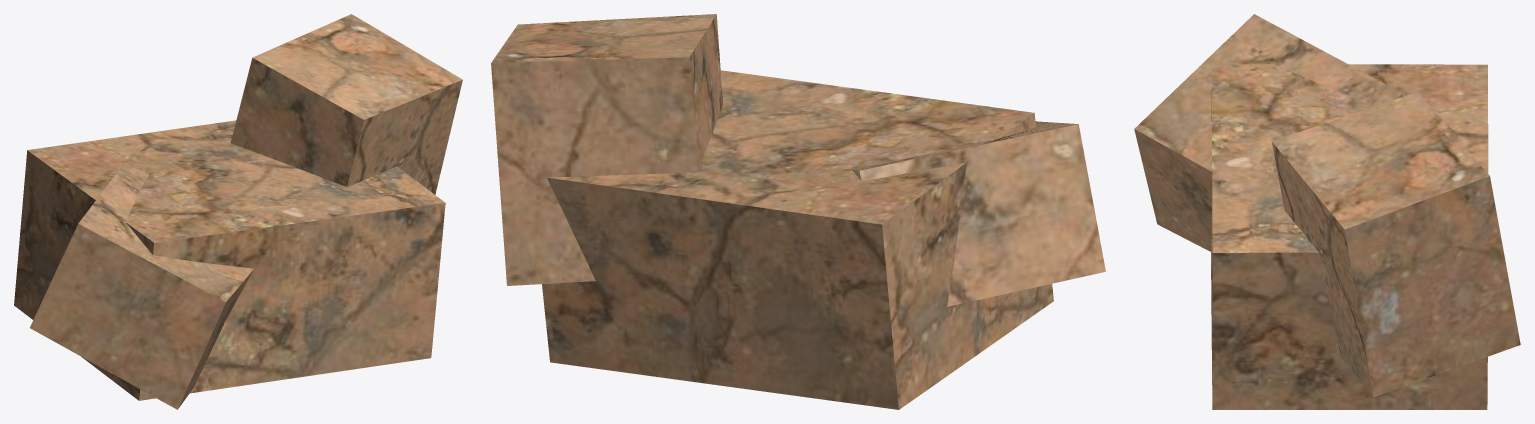
The model's file is rubble.glb.
The picture shows the model from 3 angles, left to right: view 1: azimuth 30°, elevation 25°; view 2: azimuth 150°, elevation 25°; view 3: azimuth 270°, elevation 25°; orthographic projection. The views are drawn at different scales.
Parts seen in each view (by area): view 1: rubble; view 2: rubble; view 3: rubble.
Boxes of the visible parts, <box> form: rubble: <box>14,14,462,409</box>; rubble: <box>491,14,1105,409</box>; rubble: <box>1134,14,1520,409</box>.
Size of the model in its own units: 1.26 by 0.6538 by 0.8377.
1 material, 1 textured.
